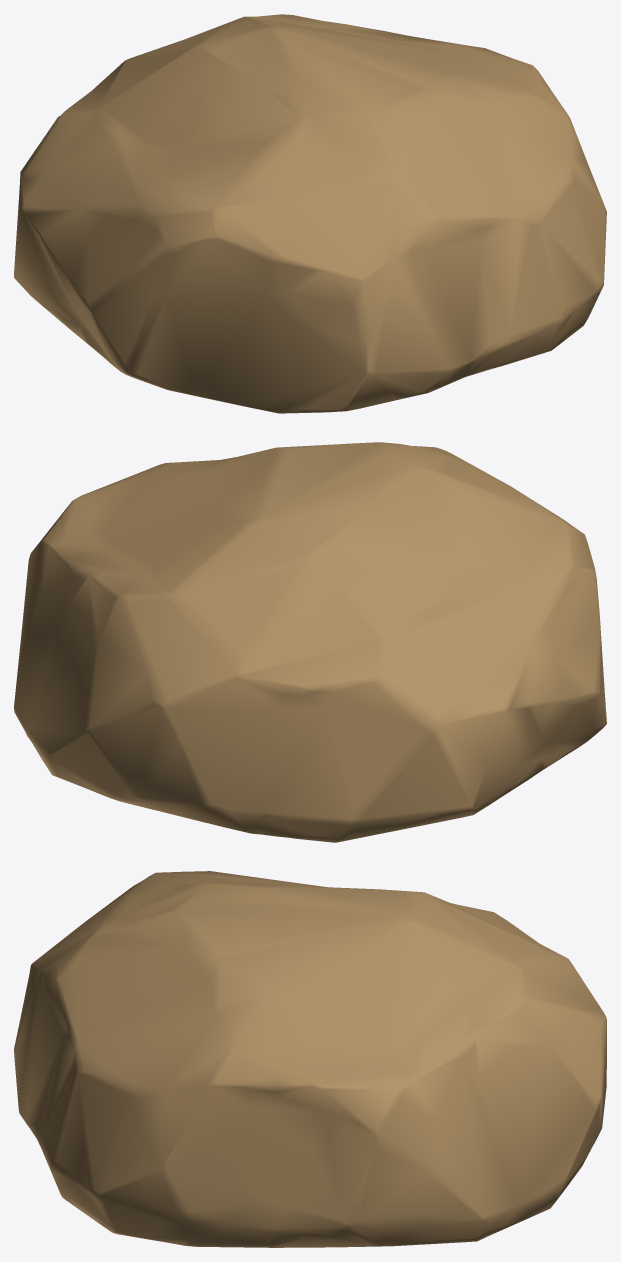
Rendered from gen3d-sandstone-rock-lod1.glb.
3 renders of one model, top to bottom at view 1: azimuth 30°, elevation 25°; view 2: azimuth 150°, elevation 25°; view 3: azimuth 270°, elevation 25°, orthographic.
Visible parts, largest first — view 1: part_0; view 2: part_0; view 3: part_0.
Part boxes in pixels (x1,y1,x2,y2): part_0: [14, 14, 606, 413]; part_0: [14, 442, 606, 842]; part_0: [14, 871, 606, 1247].
Bounding box in the file's own units: 2.08 × 0.9999 × 2.09.
